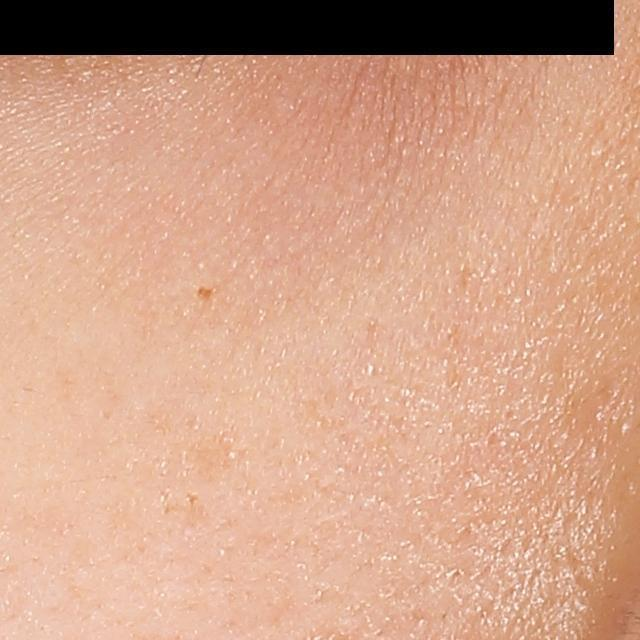nevus: (195, 281, 212, 304)
